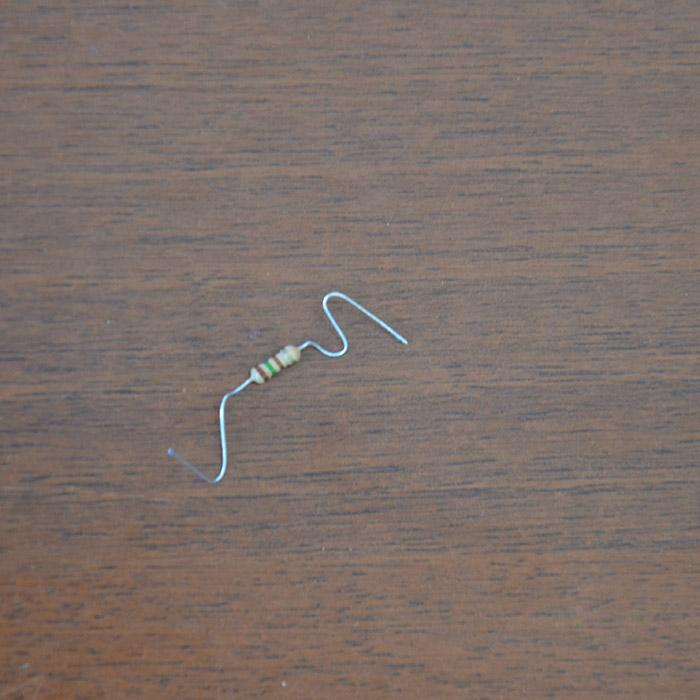resistor: (248, 342, 303, 385)
